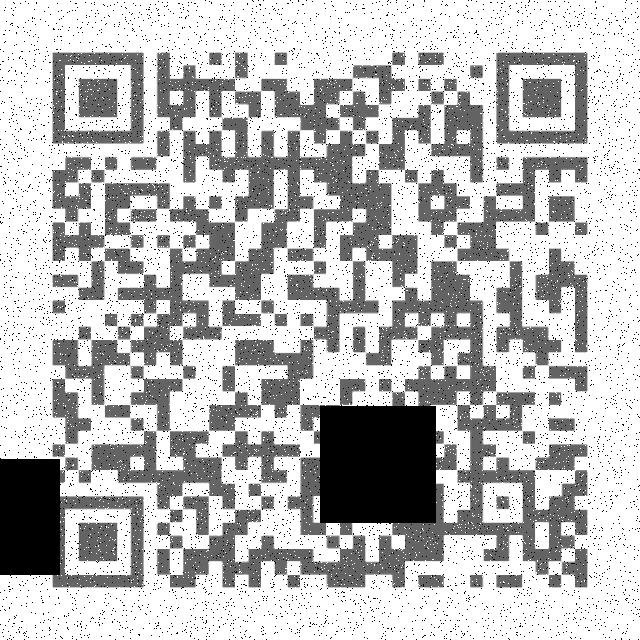QR_CODE: (40, 40, 598, 602)
